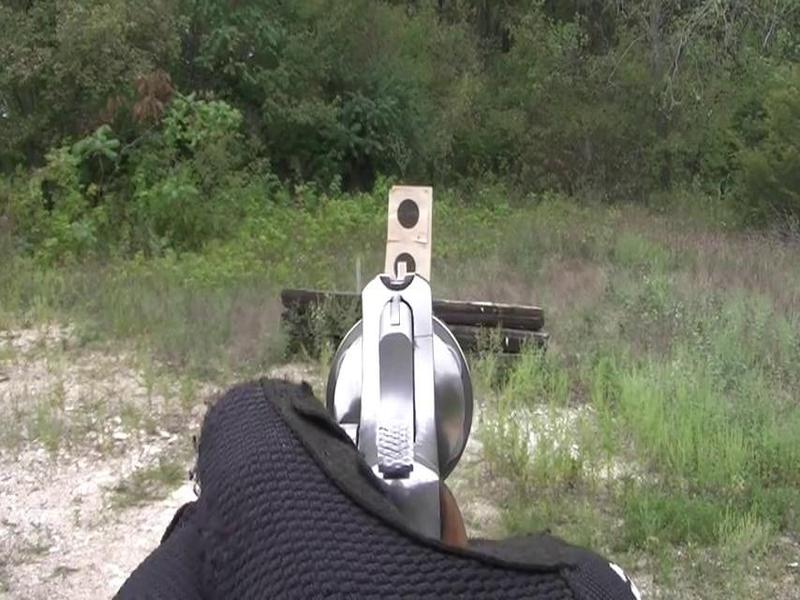Revolver: (305, 250, 492, 537)
